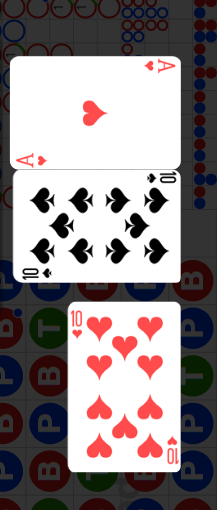10H: (164, 435, 178, 467)
10S: (20, 267, 53, 281)
AH: (141, 59, 176, 75)
